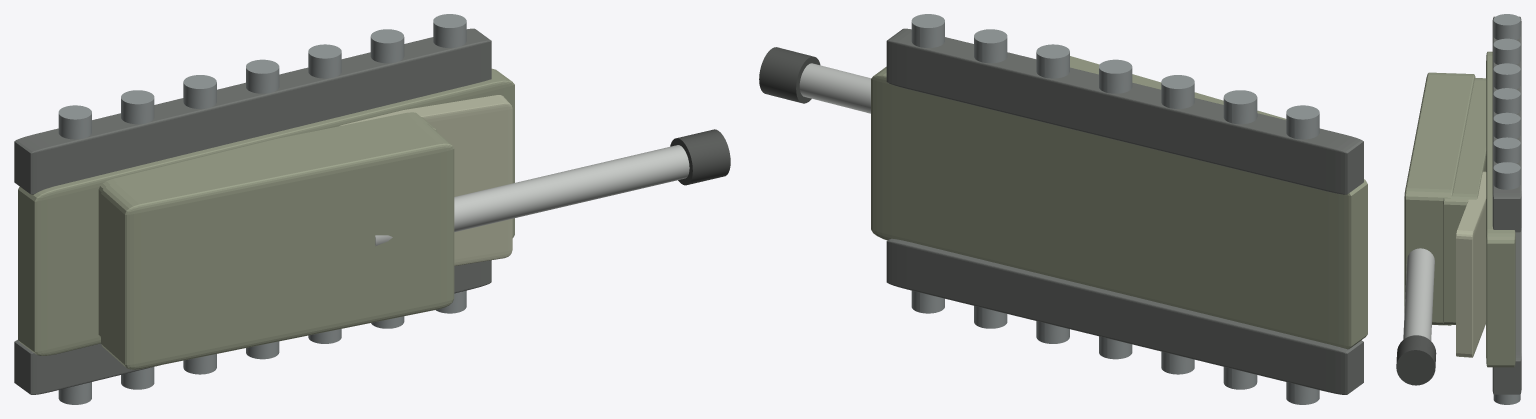
File: v-u14-vanguard-tank-destroyer-lod1.glb
3 renders of one model, left to right at view 1: azimuth 30°, elevation 25°; view 2: azimuth 150°, elevation 25°; view 3: azimuth 270°, elevation 25°, orthographic. The views are drawn at different scales.
Visible parts, largest first — view 1: tank_hunter_casemate, chassis_track_1, chassis_lower, chassis_glacis, tank_hunter_barrel_0, chassis_track_-1, upper_hull, tank_hunter_muzzle_0, chassis_roadwheel_1_5, chassis_roadwheel_1_0, chassis_roadwheel_1_4, chassis_roadwheel_1_3 (+3 smaller); view 2: chassis_lower, chassis_track_1, chassis_track_-1, tank_hunter_barrel_0, tank_hunter_muzzle_0, chassis_roadwheel_1_1, chassis_roadwheel_1_4, chassis_roadwheel_1_0, chassis_roadwheel_1_5, chassis_roadwheel_1_3, chassis_roadwheel_1_6, chassis_roadwheel_1_2 (+8 smaller); view 3: tank_hunter_casemate, chassis_lower, upper_hull, chassis_glacis, tank_hunter_barrel_0, chassis_track_1, chassis_track_-1, tank_hunter_muzzle_0, chassis_roadwheel_1_6, chassis_roadwheel_1_5, chassis_roadwheel_1_1, chassis_roadwheel_1_2 (+4 smaller).
Boxes of the visible parts, box(x1,y1,x2,y2) form: tank_hunter_casemate: box(101, 122, 454, 369); chassis_track_1: box(14, 28, 491, 194); chassis_lower: box(18, 68, 514, 355); chassis_glacis: box(339, 95, 512, 265); tank_hunter_barrel_0: box(375, 145, 689, 246); chassis_track_-1: box(14, 260, 491, 394); upper_hull: box(98, 112, 437, 337); tank_hunter_muzzle_0: box(670, 129, 730, 185); chassis_roadwheel_1_5: box(370, 29, 404, 63); chassis_roadwheel_1_0: box(58, 105, 91, 139); chassis_roadwheel_1_4: box(308, 44, 341, 78); chassis_roadwheel_1_3: box(246, 59, 279, 93); chassis_lower: box(871, 66, 1367, 349); chassis_track_1: box(886, 28, 1363, 194); chassis_track_-1: box(886, 238, 1363, 394); tank_hunter_barrel_0: box(799, 63, 870, 113); tank_hunter_muzzle_0: box(759, 47, 820, 103); chassis_roadwheel_1_1: box(1223, 90, 1257, 124); chassis_roadwheel_1_4: box(1036, 44, 1069, 78); chassis_roadwheel_1_0: box(1286, 105, 1319, 139); chassis_roadwheel_1_5: box(974, 29, 1007, 63); chassis_roadwheel_1_3: box(1099, 59, 1132, 93); chassis_roadwheel_1_6: box(911, 14, 944, 47); chassis_roadwheel_1_2: box(1161, 75, 1194, 108); tank_hunter_casemate: box(1404, 72, 1475, 325); chassis_lower: box(1486, 51, 1515, 367); upper_hull: box(1443, 78, 1486, 324); chassis_glacis: box(1456, 171, 1486, 357); tank_hunter_barrel_0: box(1403, 248, 1434, 340); chassis_track_1: box(1492, 16, 1521, 232); chassis_track_-1: box(1492, 228, 1521, 394); tank_hunter_muzzle_0: box(1396, 335, 1436, 385); chassis_roadwheel_1_6: box(1493, 162, 1520, 189); chassis_roadwheel_1_5: box(1493, 137, 1520, 163); chassis_roadwheel_1_1: box(1493, 38, 1520, 64); chassis_roadwheel_1_2: box(1493, 63, 1520, 89).
Size of what is drawn, in the model's own units: 9.35 by 3.98 by 1.95.
